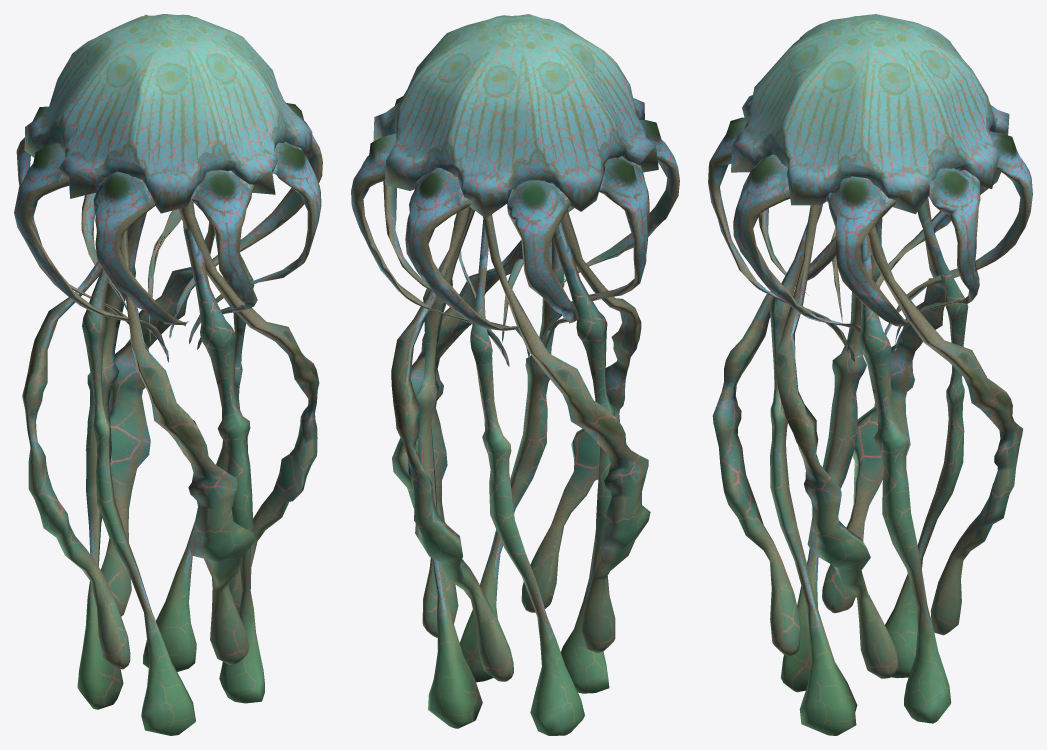
File: phantom_squid.glb
3 renders of one model, left to right at view 1: azimuth 30°, elevation 25°; view 2: azimuth 150°, elevation 25°; view 3: azimuth 270°, elevation 25°, orthographic.
Parts seen in each view (by area): view 1: body, M_tent03, L_tent03, L_tent04, M_tent04, M_tent01, M_tent02, L_tent01, L_tent02; view 2: body, M_tent04, L_tent01, M_tent01, L_tent02, M_tent03, L_tent04, L_tent03, M_tent02; view 3: body, M_tent02, L_tent02, M_tent01, L_tent03, M_tent03, M_tent04, L_tent01, L_tent04.
Boxes of the visible parts, x1=… form: body: x1=14, y1=14, x2=322, y2=362; M_tent03: x1=120, y1=229, x2=254, y2=664; L_tent03: x1=183, y1=202, x2=264, y2=703; L_tent04: x1=82, y1=267, x2=195, y2=735; M_tent04: x1=22, y1=224, x2=132, y2=669; M_tent01: x1=85, y1=222, x2=214, y2=616; M_tent02: x1=179, y1=200, x2=319, y2=612; L_tent01: x1=77, y1=212, x2=146, y2=709; L_tent02: x1=143, y1=255, x2=254, y2=671; body: x1=351, y1=14, x2=679, y2=366; M_tent04: x1=483, y1=214, x2=650, y2=653; L_tent01: x1=470, y1=220, x2=584, y2=735; M_tent01: x1=391, y1=206, x2=513, y2=681; L_tent02: x1=417, y1=208, x2=482, y2=728; M_tent03: x1=521, y1=210, x2=641, y2=612; L_tent04: x1=552, y1=220, x2=614, y2=693; L_tent03: x1=459, y1=237, x2=564, y2=682; M_tent02: x1=392, y1=240, x2=522, y2=637; body: x1=708, y1=14, x2=1032, y2=361; M_tent02: x1=775, y1=205, x2=898, y2=678; L_tent02: x1=859, y1=234, x2=951, y2=723; M_tent01: x1=868, y1=226, x2=1022, y2=635; L_tent03: x1=769, y1=204, x2=857, y2=735; M_tent03: x1=712, y1=236, x2=835, y2=656; M_tent04: x1=822, y1=197, x2=945, y2=613; L_tent01: x1=885, y1=202, x2=968, y2=678; L_tent04: x1=780, y1=218, x2=882, y2=692.
Size of the model in its own units: 5.62 by 13.08 by 5.62.
Materials: 2 (2 with a texture image).
